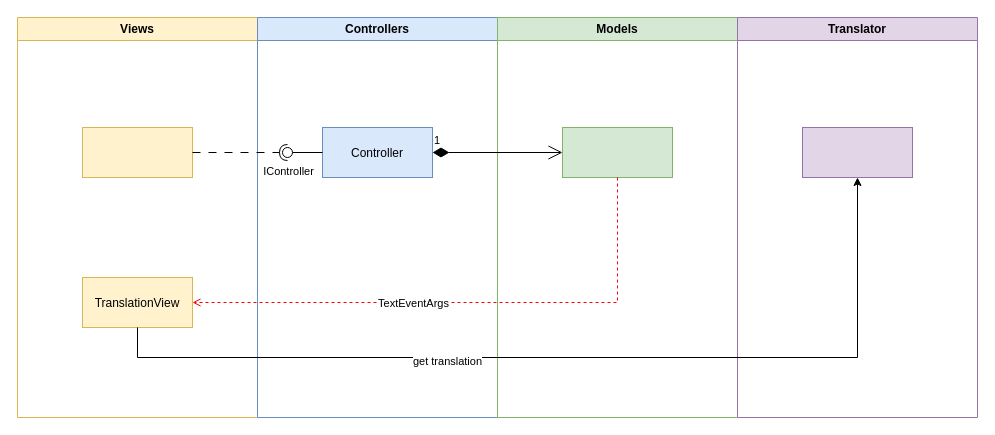
This 995x435 diagram has some shape labels left out. Here are the shapes that lost their labels. From the top down, the centre of each, then its label:
At point 137,152: "InputView".
At point 617,152: "Model".
At point 857,152: "DeepLTranslator".
